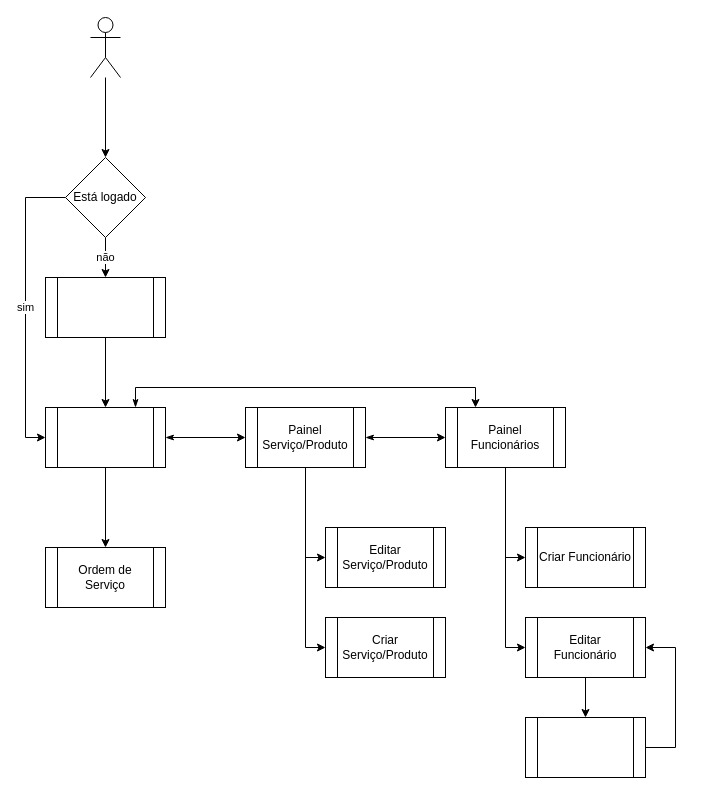
The diagram is 701 pixels wide and 795 high, and some of its shapes have lost their labels. The centre of each missing label's shape, as x and y in pixels:
"Funcionário" belongs at pixel 105 47.
"Login" belongs at pixel 105 307.
"Mudar Senha" belongs at pixel 585 747.
"Painel Ordens de Serviços" belongs at pixel 105 437.
